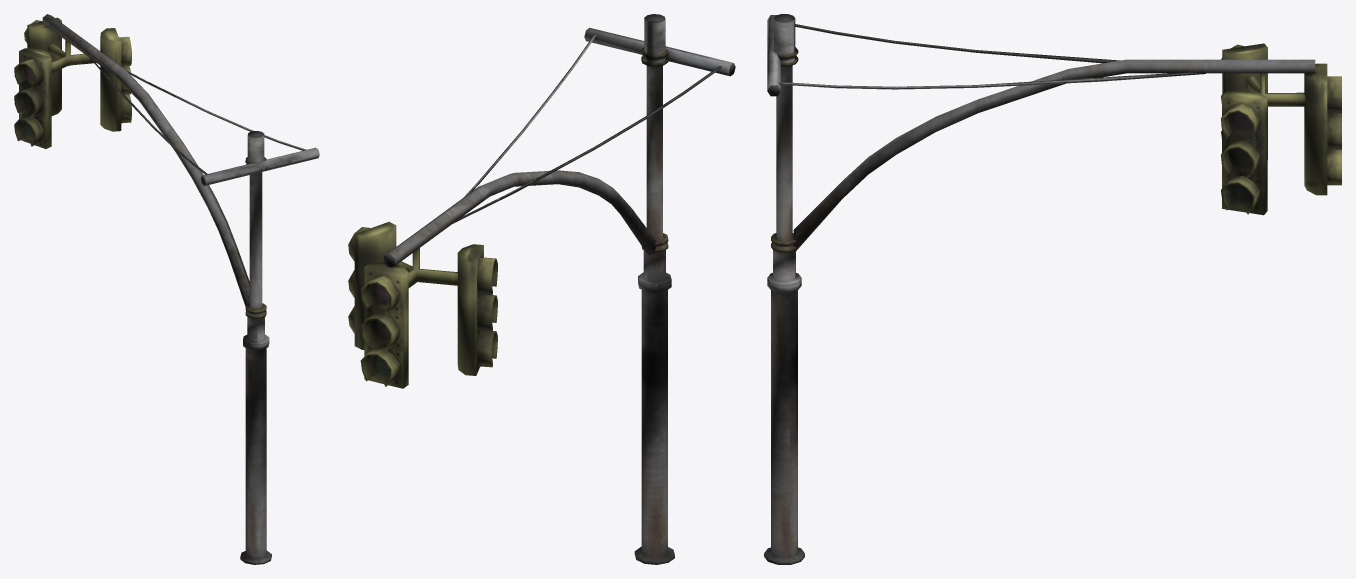
File: Traffic light.fbx
3 views of the same model, side by side, from view 1: azimuth 30°, elevation 25°; view 2: azimuth 150°, elevation 25°; view 3: azimuth 270°, elevation 25° (orthographic). The views are drawn at different scales.
Parts seen in each view (by area): view 1: Cylinder_003; view 2: Cylinder_003; view 3: Cylinder_003.
Boxes of the visible parts, x1,y1,x2,y2 form: Cylinder_003: (14,14,319,564); Cylinder_003: (348,14,735,564); Cylinder_003: (764,14,1341,564).
Size of the model in its own units: 0.7263 by 2.58 by 2.51.
